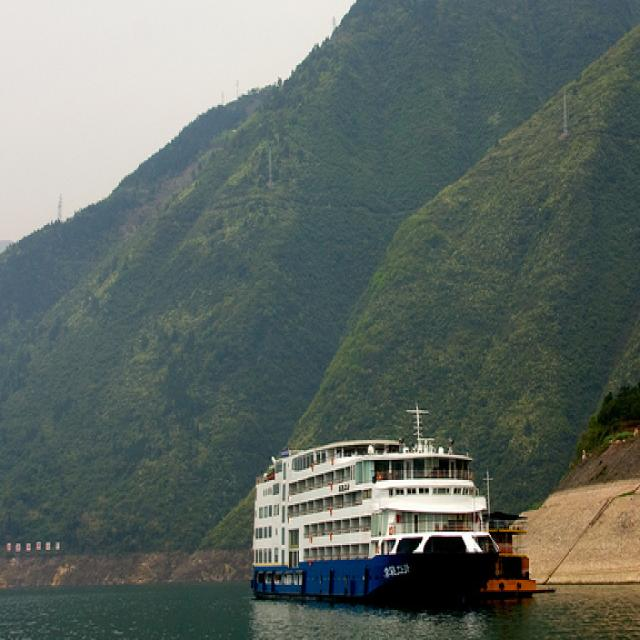passenger ship: (250, 388, 498, 602)
